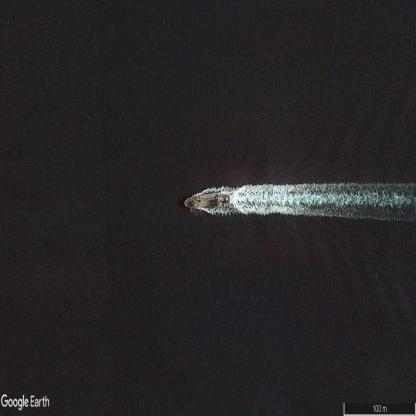ship: (184, 194, 230, 208)
